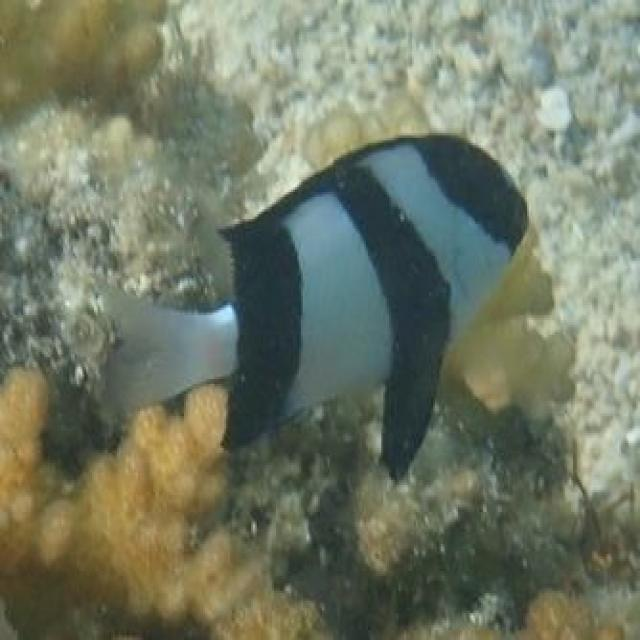ThreeStripedDamselfish: (103, 135, 531, 485)
